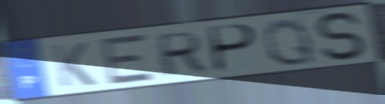E: (100, 32, 157, 87)
K: (49, 41, 98, 89)
P: (208, 22, 260, 75)
Q: (260, 17, 319, 68)
R: (155, 29, 209, 80)
S: (312, 10, 372, 63)
